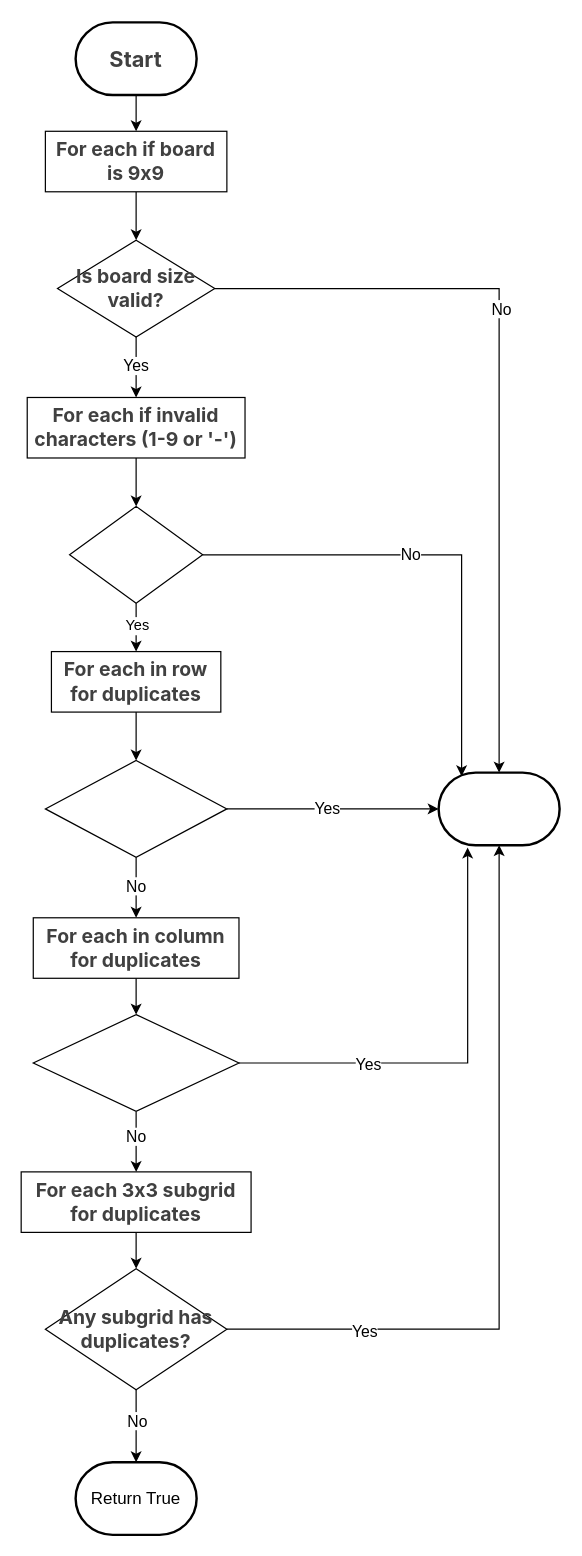
Image size: 582x1556. Some labels were removed from this diagram. Each missing label, with the box of its shape:
Any column has duplicates?: (32, 1013, 239, 1111)
Any row has duplicates?: (44, 759, 227, 857)
Are all characters valid?: (68, 505, 203, 603)
Return False: (437, 771, 560, 846)
